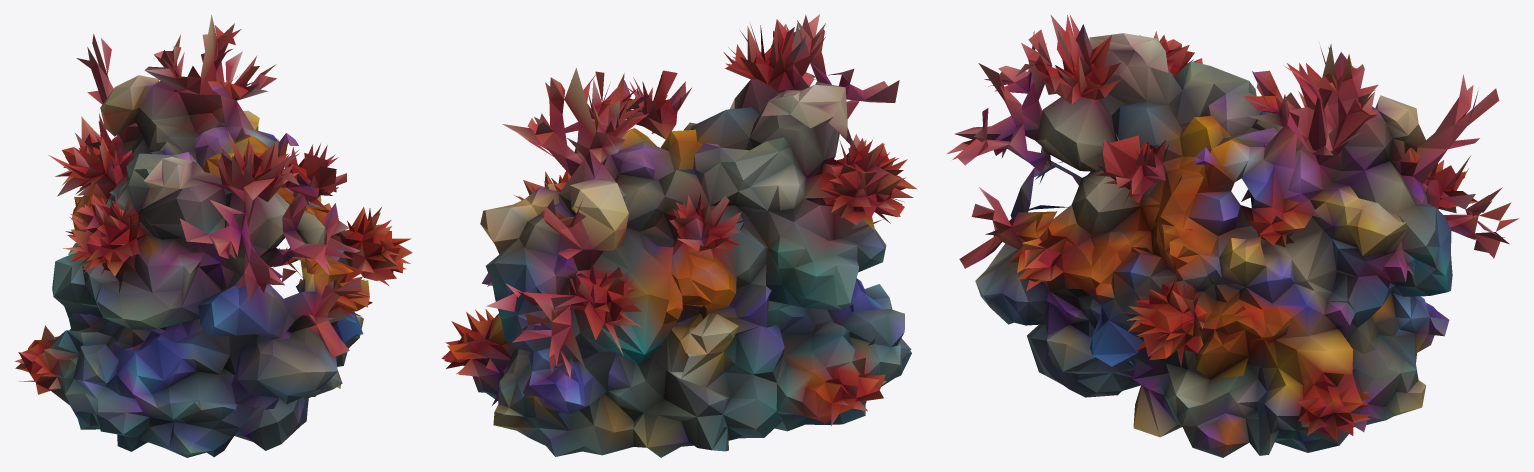
File: rainbow.glb
3 renders of one model, left to right at view 1: azimuth 30°, elevation 25°; view 2: azimuth 150°, elevation 25°; view 3: azimuth 270°, elevation 25°, orthographic. The views are drawn at different scales.
Visible parts, largest first — view 1: rainbow; view 2: rainbow; view 3: rainbow.
Boxes of the visible parts, <box> form: rainbow: <box>14,15,412,457</box>; rainbow: <box>441,14,917,457</box>; rainbow: <box>947,14,1519,457</box>.
Bounding box in the file's own units: 1.87 × 1.64 × 2.3.
